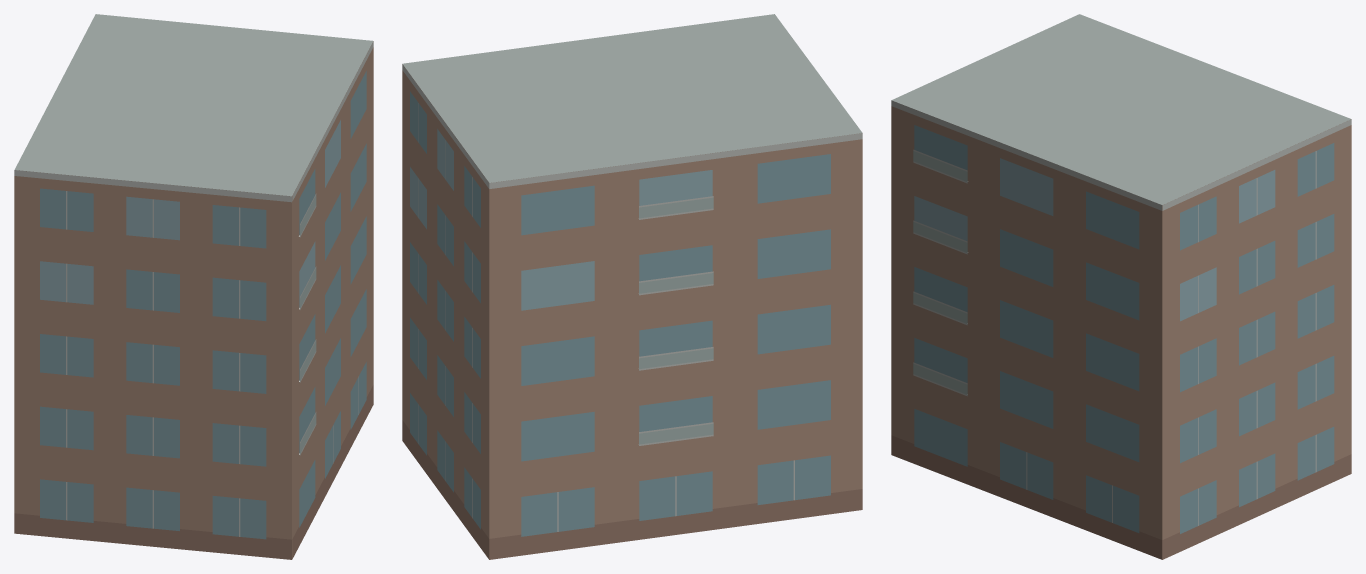
Rendered from survey-upis-32883693.glb.
3 views of the same model, side by side, from view 1: azimuth 30°, elevation 25°; view 2: azimuth 150°, elevation 25°; view 3: azimuth 270°, elevation 25° (orthographic). The views are drawn at different scales.
Visible parts, largest first — view 1: survey-upis-32883693.tmp; view 2: survey-upis-32883693.tmp; view 3: survey-upis-32883693.tmp.
Boxes of the visible parts, x1,y1,x2,y2 form: survey-upis-32883693.tmp: (14,14,373,559); survey-upis-32883693.tmp: (402,14,862,559); survey-upis-32883693.tmp: (891,14,1351,559).
Bounding box in the file's own units: 17.23 × 14.9 × 17.53.
